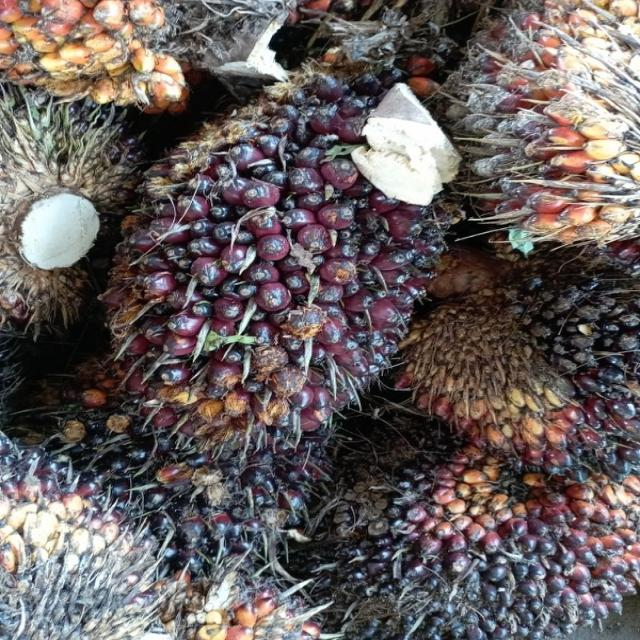fraksi 00: (304, 431, 640, 640)
fraksi 1: (114, 46, 445, 471)
